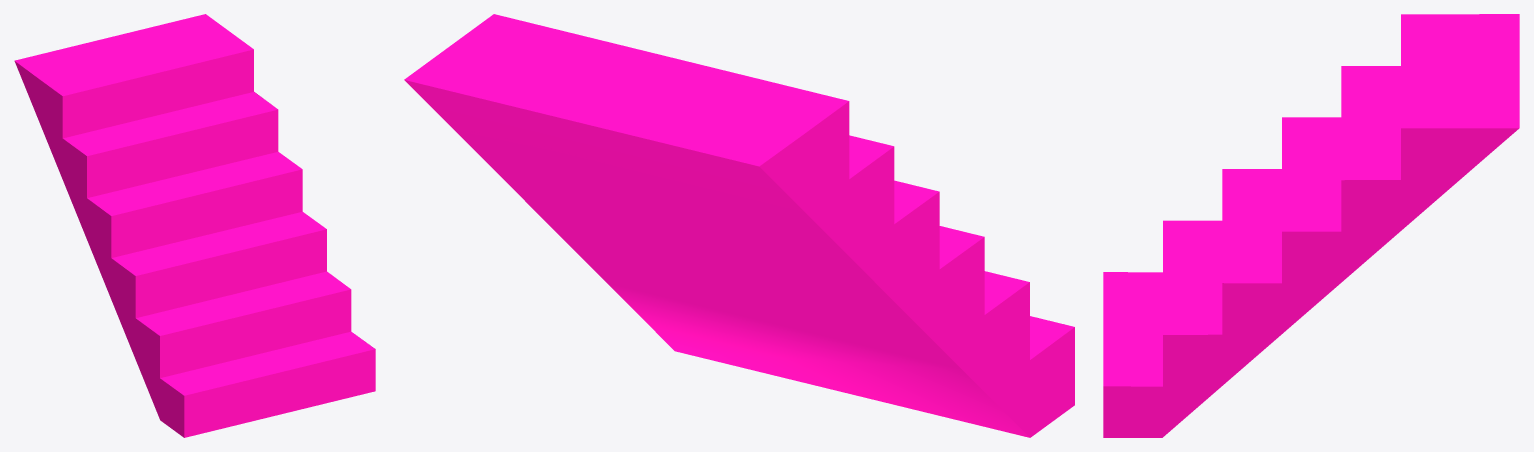
The picture shows the model from 3 angles, left to right: view 1: azimuth 30°, elevation 25°; view 2: azimuth 150°, elevation 25°; view 3: azimuth 270°, elevation 25°; orthographic projection. The views are drawn at different scales.
Visible parts, largest first — view 1: BaseStairs.007; view 2: BaseStairs.007; view 3: BaseStairs.007.
Part boxes in pixels (x1=…): BaseStairs.007: x1=14, y1=14, x2=375, y2=437; BaseStairs.007: x1=404, y1=14, x2=1074, y2=437; BaseStairs.007: x1=1103, y1=14, x2=1519, y2=437.
Size of what is drawn, in the model's own units: 1.36 by 1.71 by 2.09.
Materials: 1 (1 with a texture image).
